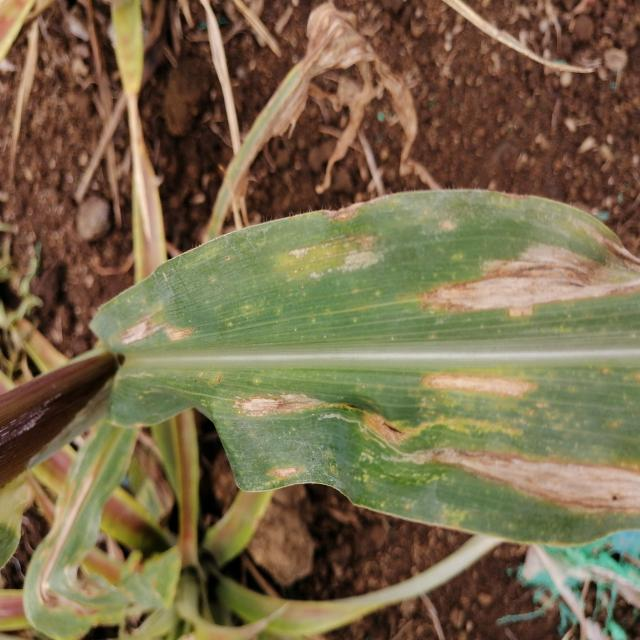Corn_Leaf_Blight: (85, 193, 640, 538)
